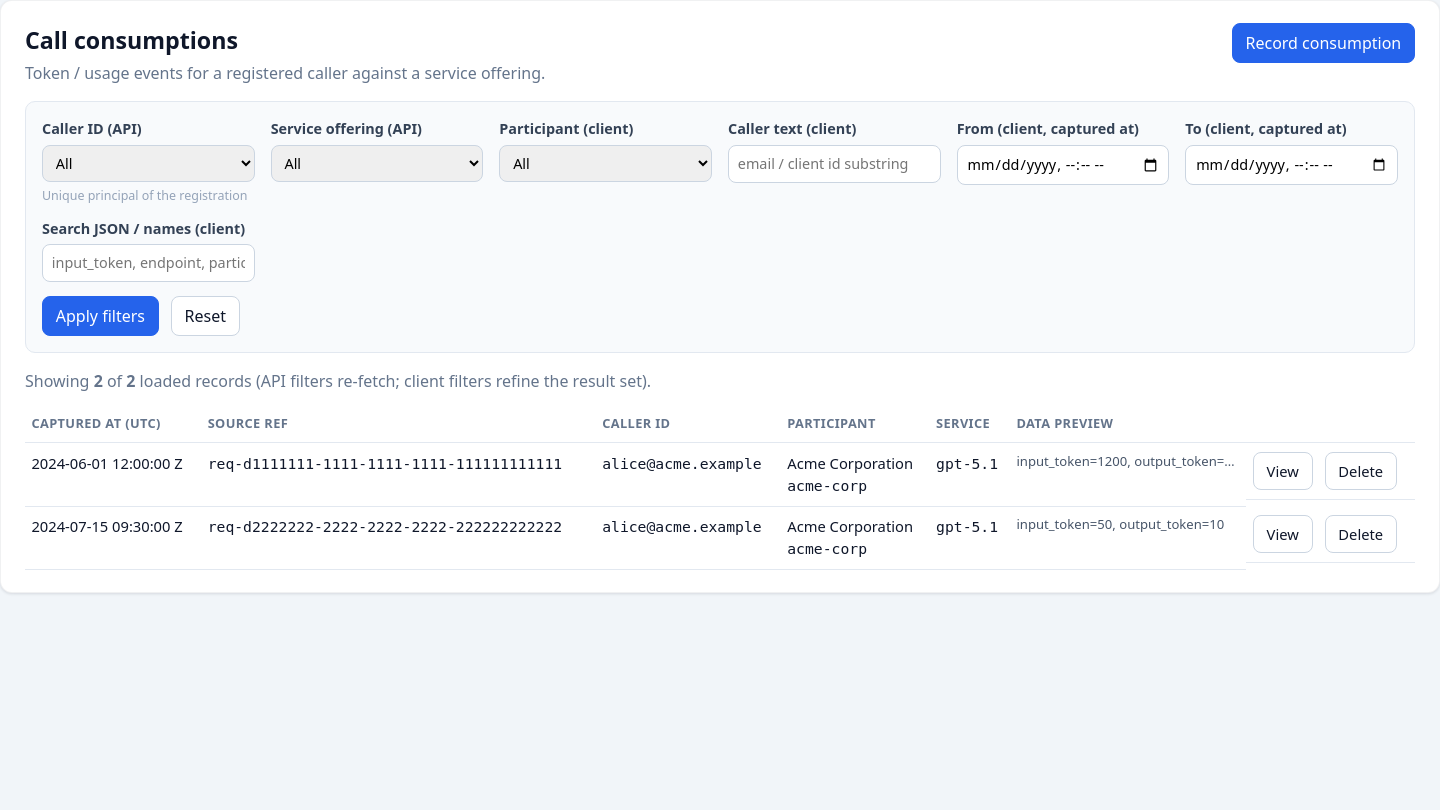
Test: Consumption pages › filters client-side by date from
Check: the text "input_token=1200, output_token=340" is shown, box [1010,442,1246,506]
Type "2024-07-01T00:00" into the field labelled "From (client, captured at)". click: (1063, 165)
box: [957,145,1169,185]
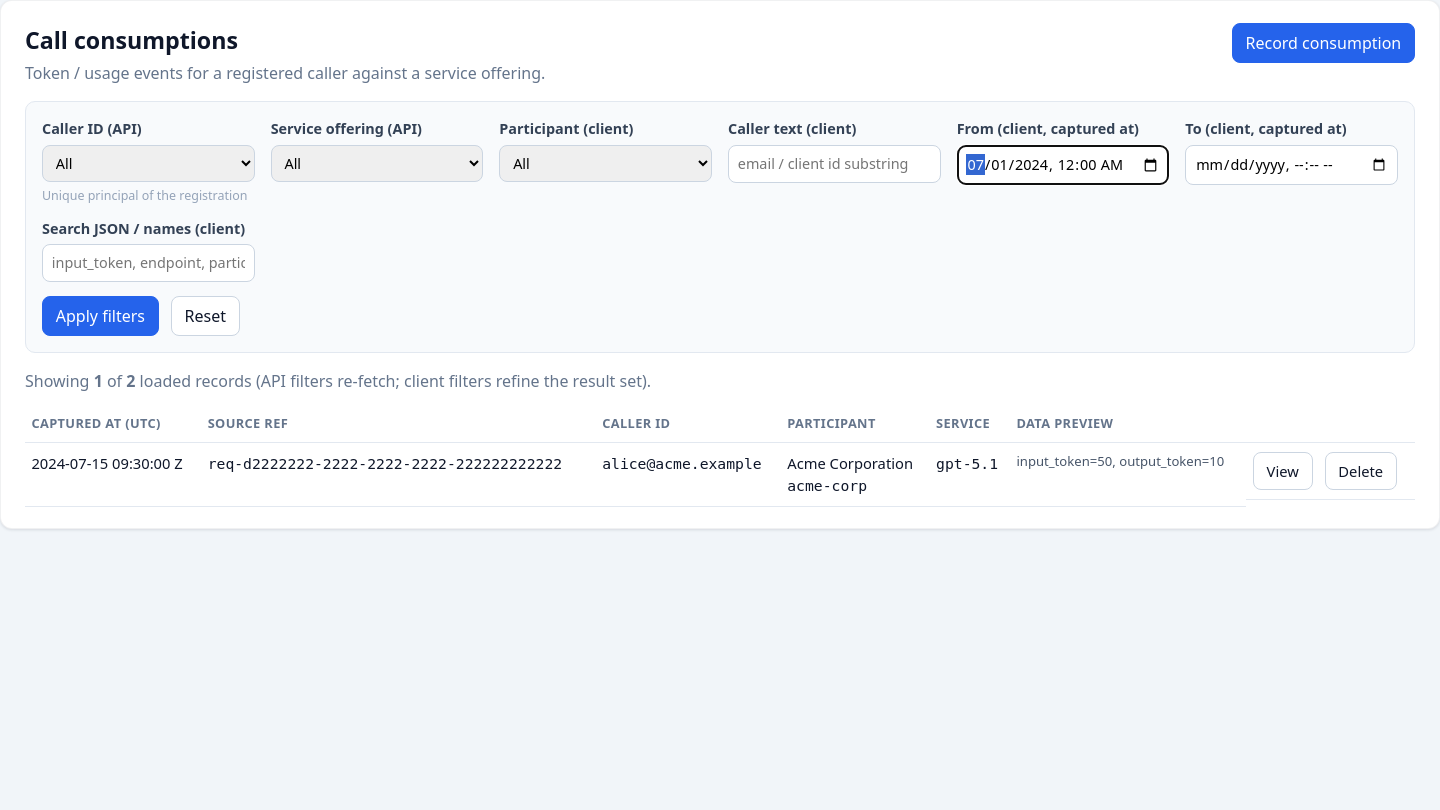
Check: the text "input_token=50, output_token=10" is shown, box [1010,442,1246,506]
Check: the text "input_token=1200" is gone
